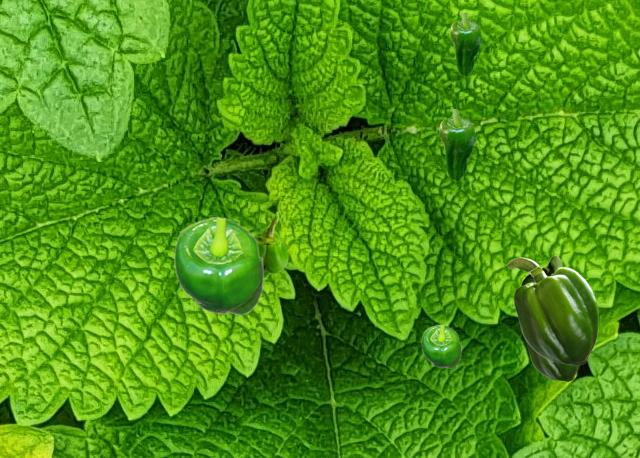bell_pepper: (506, 257, 597, 364), (173, 216, 263, 314), (519, 255, 591, 335), (439, 109, 474, 180), (525, 341, 580, 380), (255, 211, 287, 277), (450, 13, 480, 75), (421, 324, 460, 367)
